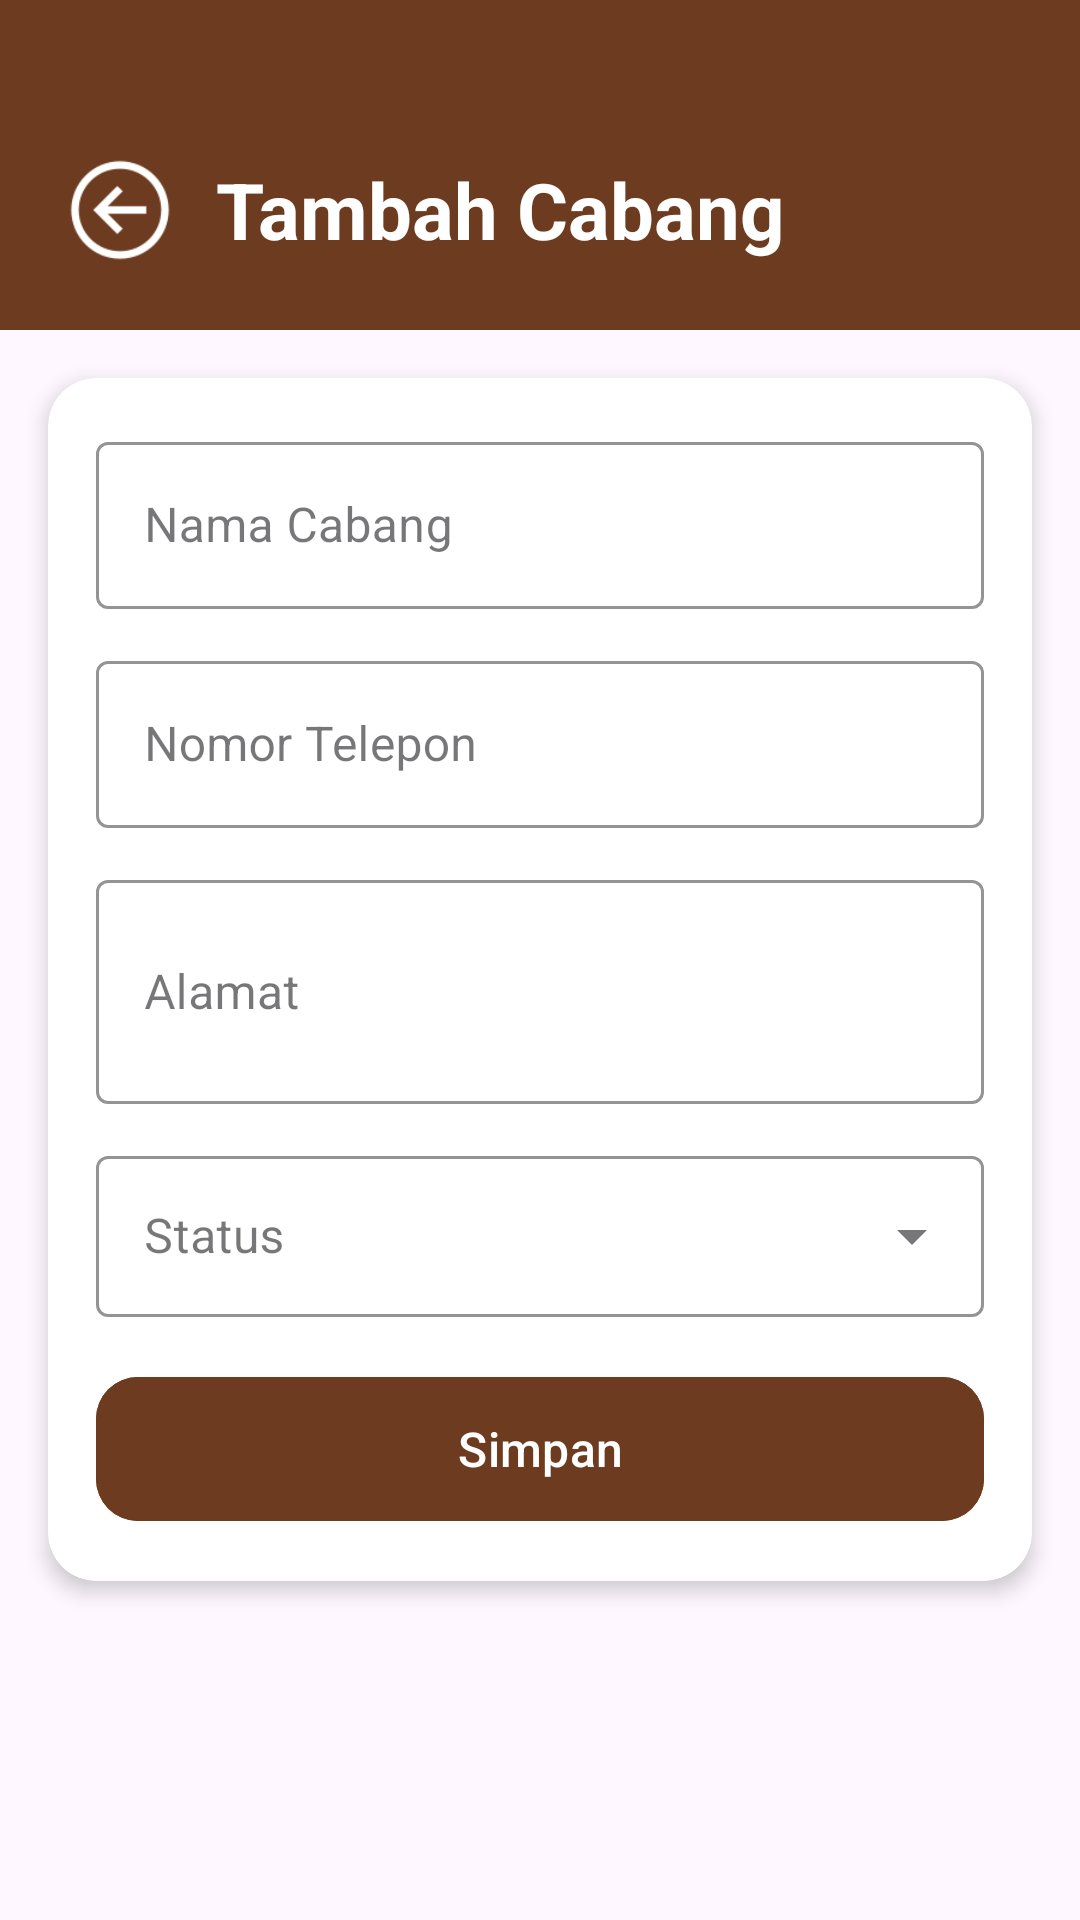

Icons on this 1080w x 1920h Android screen, each with the point to tap as (x=x, y=y):
Kembali: (x=120, y=210)
